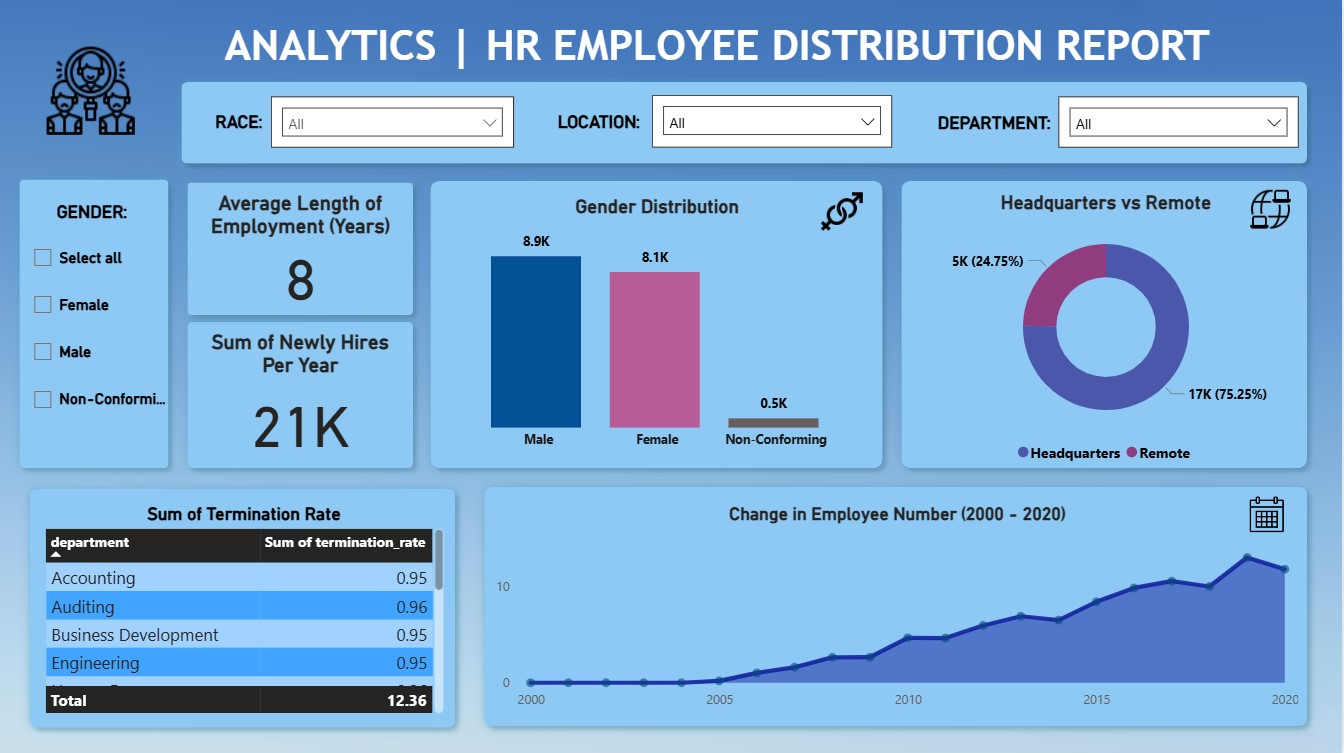

The page's visual inventory and layout, read from the dashboard file:
{"tool":"powerbi","page":{"name":"Page 1","canvas":[1280,720],"ordinal":0},"visuals":[{"type":"textbox","title":"ANALYTICS | HR Employee Distribution Report","box":[0,0,1280,68.6],"z":0},{"type":"card","title":"Average Length of Employment (Years)","fields":{"Values":["Sum(avg_length_employment.avg_length_employment)"]},"box":[865,78.8,401.2,135],"z":1000},{"type":"columnChart","title":"Gender Distribution","fields":{"Category":["gender.gender"],"Y":["Sum(gender.count)"]},"box":[10,79,435,183],"z":2000},{"type":"donutChart","title":"Headquarters vs Remote","fields":{"Y":["Sum(location.count)"],"Category":["location.location"]},"box":[465.7,78.6,381.4,351.4],"z":3000},{"type":"lineChart","title":"Change in Employee Number (2000 - 2020)","fields":{"Category":["employee_change.year"],"Y":["Sum(employee_change.net_change_percent)"]},"box":[10,277.5,433.8,190],"z":4000},{"type":"map","title":"Employees by State","fields":{"Size":["Sum(state.count)"],"Category":["state.location_state"]},"box":[10,486.2,433.8,218.8],"z":5000},{"type":"clusteredColumnChart","title":"Race Distribution","fields":{"Category":["race.Race"],"Y":["Sum(race.Count)"]},"box":[465,443.8,801.2,261.2],"z":6000},{"type":"tableEx","fields":{"Values":["turnover_rate.department","Sum(turnover_rate.termination_rate)"]},"box":[865,226.2,401.2,203.8],"z":7000}]}

Visuals, with their boxes in screenshot pixels (x1, y1, x2, y2), scaled from the page's 1280x720 canvas onto the 1344x753 screenshot:
"ANALYTICS | HR Employee Distribution Report" textbox: <bbox>0, 0, 1343, 72</bbox>
"Average Length of Employment (Years)" card: <bbox>908, 82, 1330, 224</bbox>
"Gender Distribution" columnChart: <bbox>10, 83, 467, 274</bbox>
"Headquarters vs Remote" donutChart: <bbox>489, 82, 889, 450</bbox>
"Change in Employee Number (2000 - 2020)" lineChart: <bbox>10, 290, 466, 489</bbox>
"Employees by State" map: <bbox>10, 508, 466, 737</bbox>
"Race Distribution" clusteredColumnChart: <bbox>488, 464, 1330, 737</bbox>
tableEx - turnover_rate.department x Sum(turnover_rate.termination_rate): <bbox>908, 237, 1330, 450</bbox>
